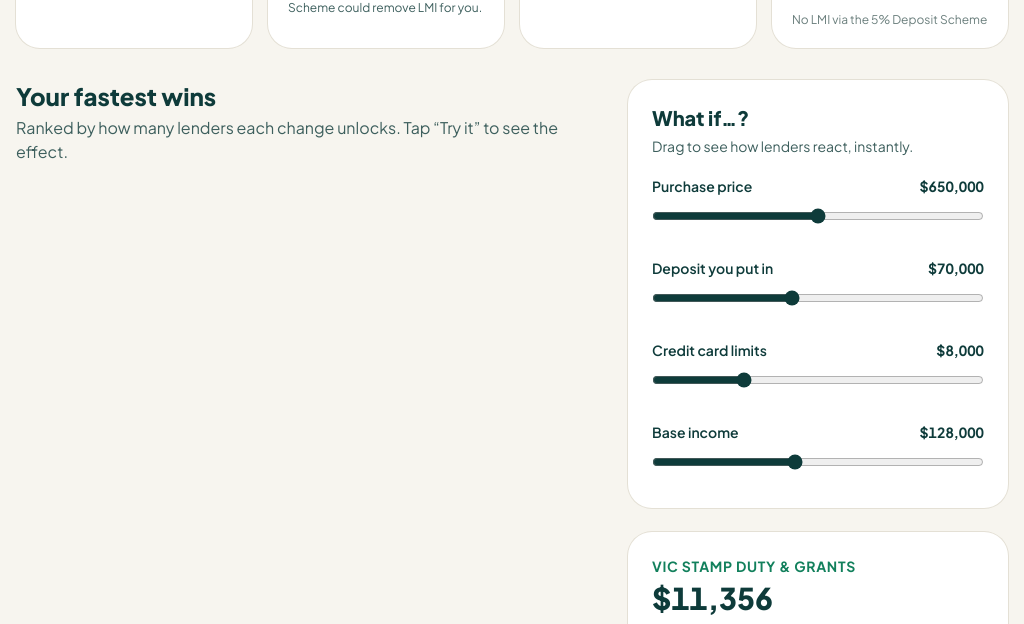
Your report › runs a what-if, keeps it, and doesn’t celebrate twice
(page scrolled)
Set the slider labelled "Credit card limits $8,000" to "20000" at (871, 380), box x1=652 y1=364 x2=984 y2=396
(page scrolled)
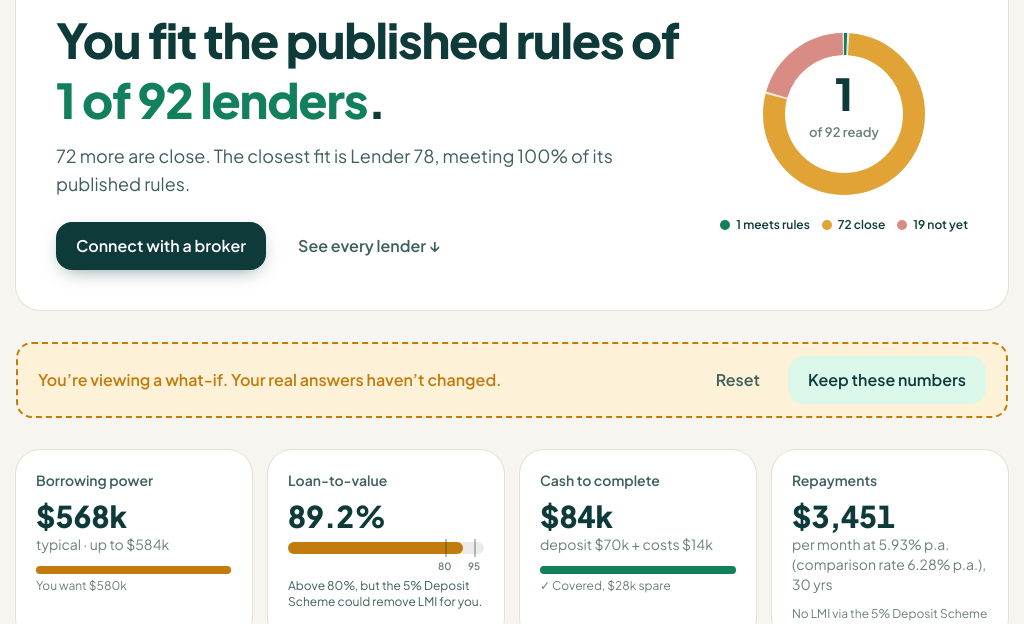
Expected: the text "You’re viewing a what-if. Your real answers haven’t changed." is shown, x1=38 y1=368 x2=502 y2=392
Click the button "Keep these numbers".
click(887, 380)  # box x1=788 y1=356 x2=986 y2=404
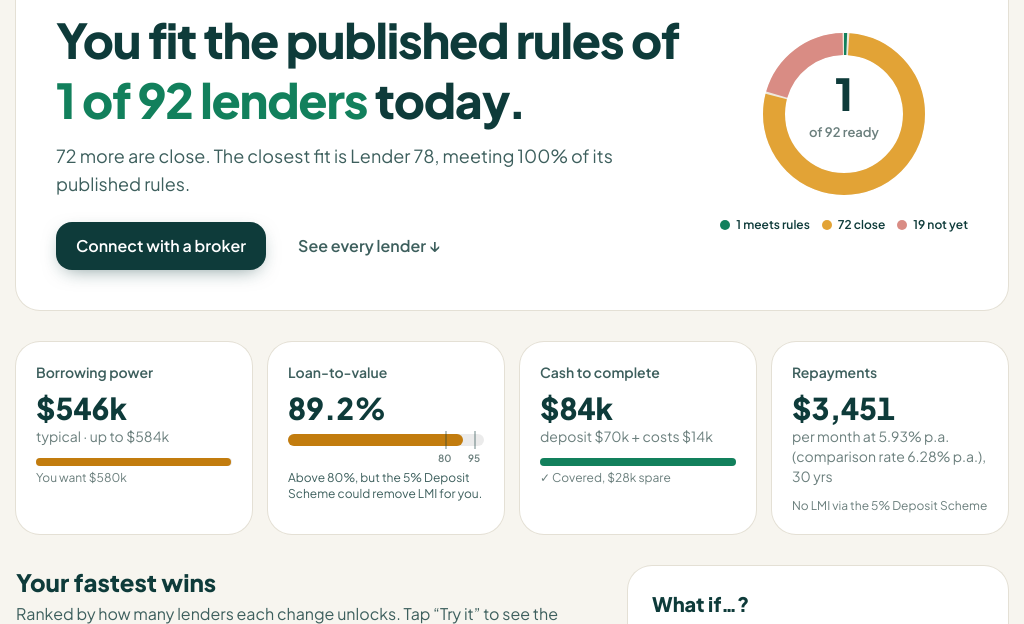
Expected: the text "You’re viewing a what-if" is gone
